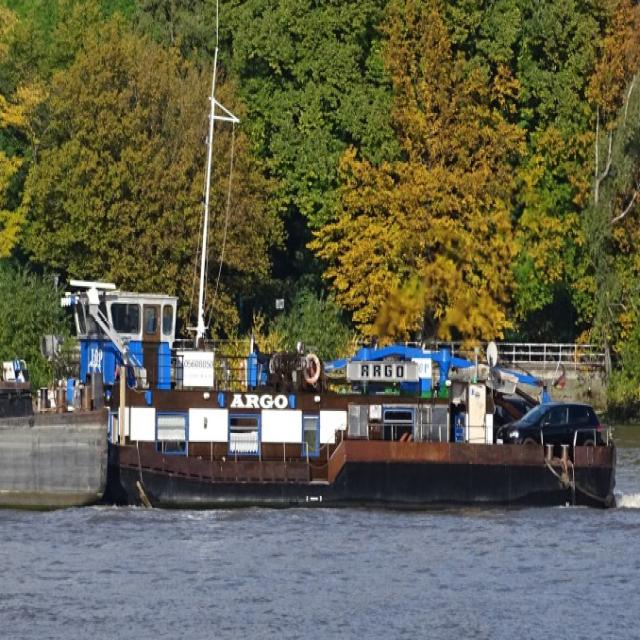tugboat: (28, 267, 630, 527)
